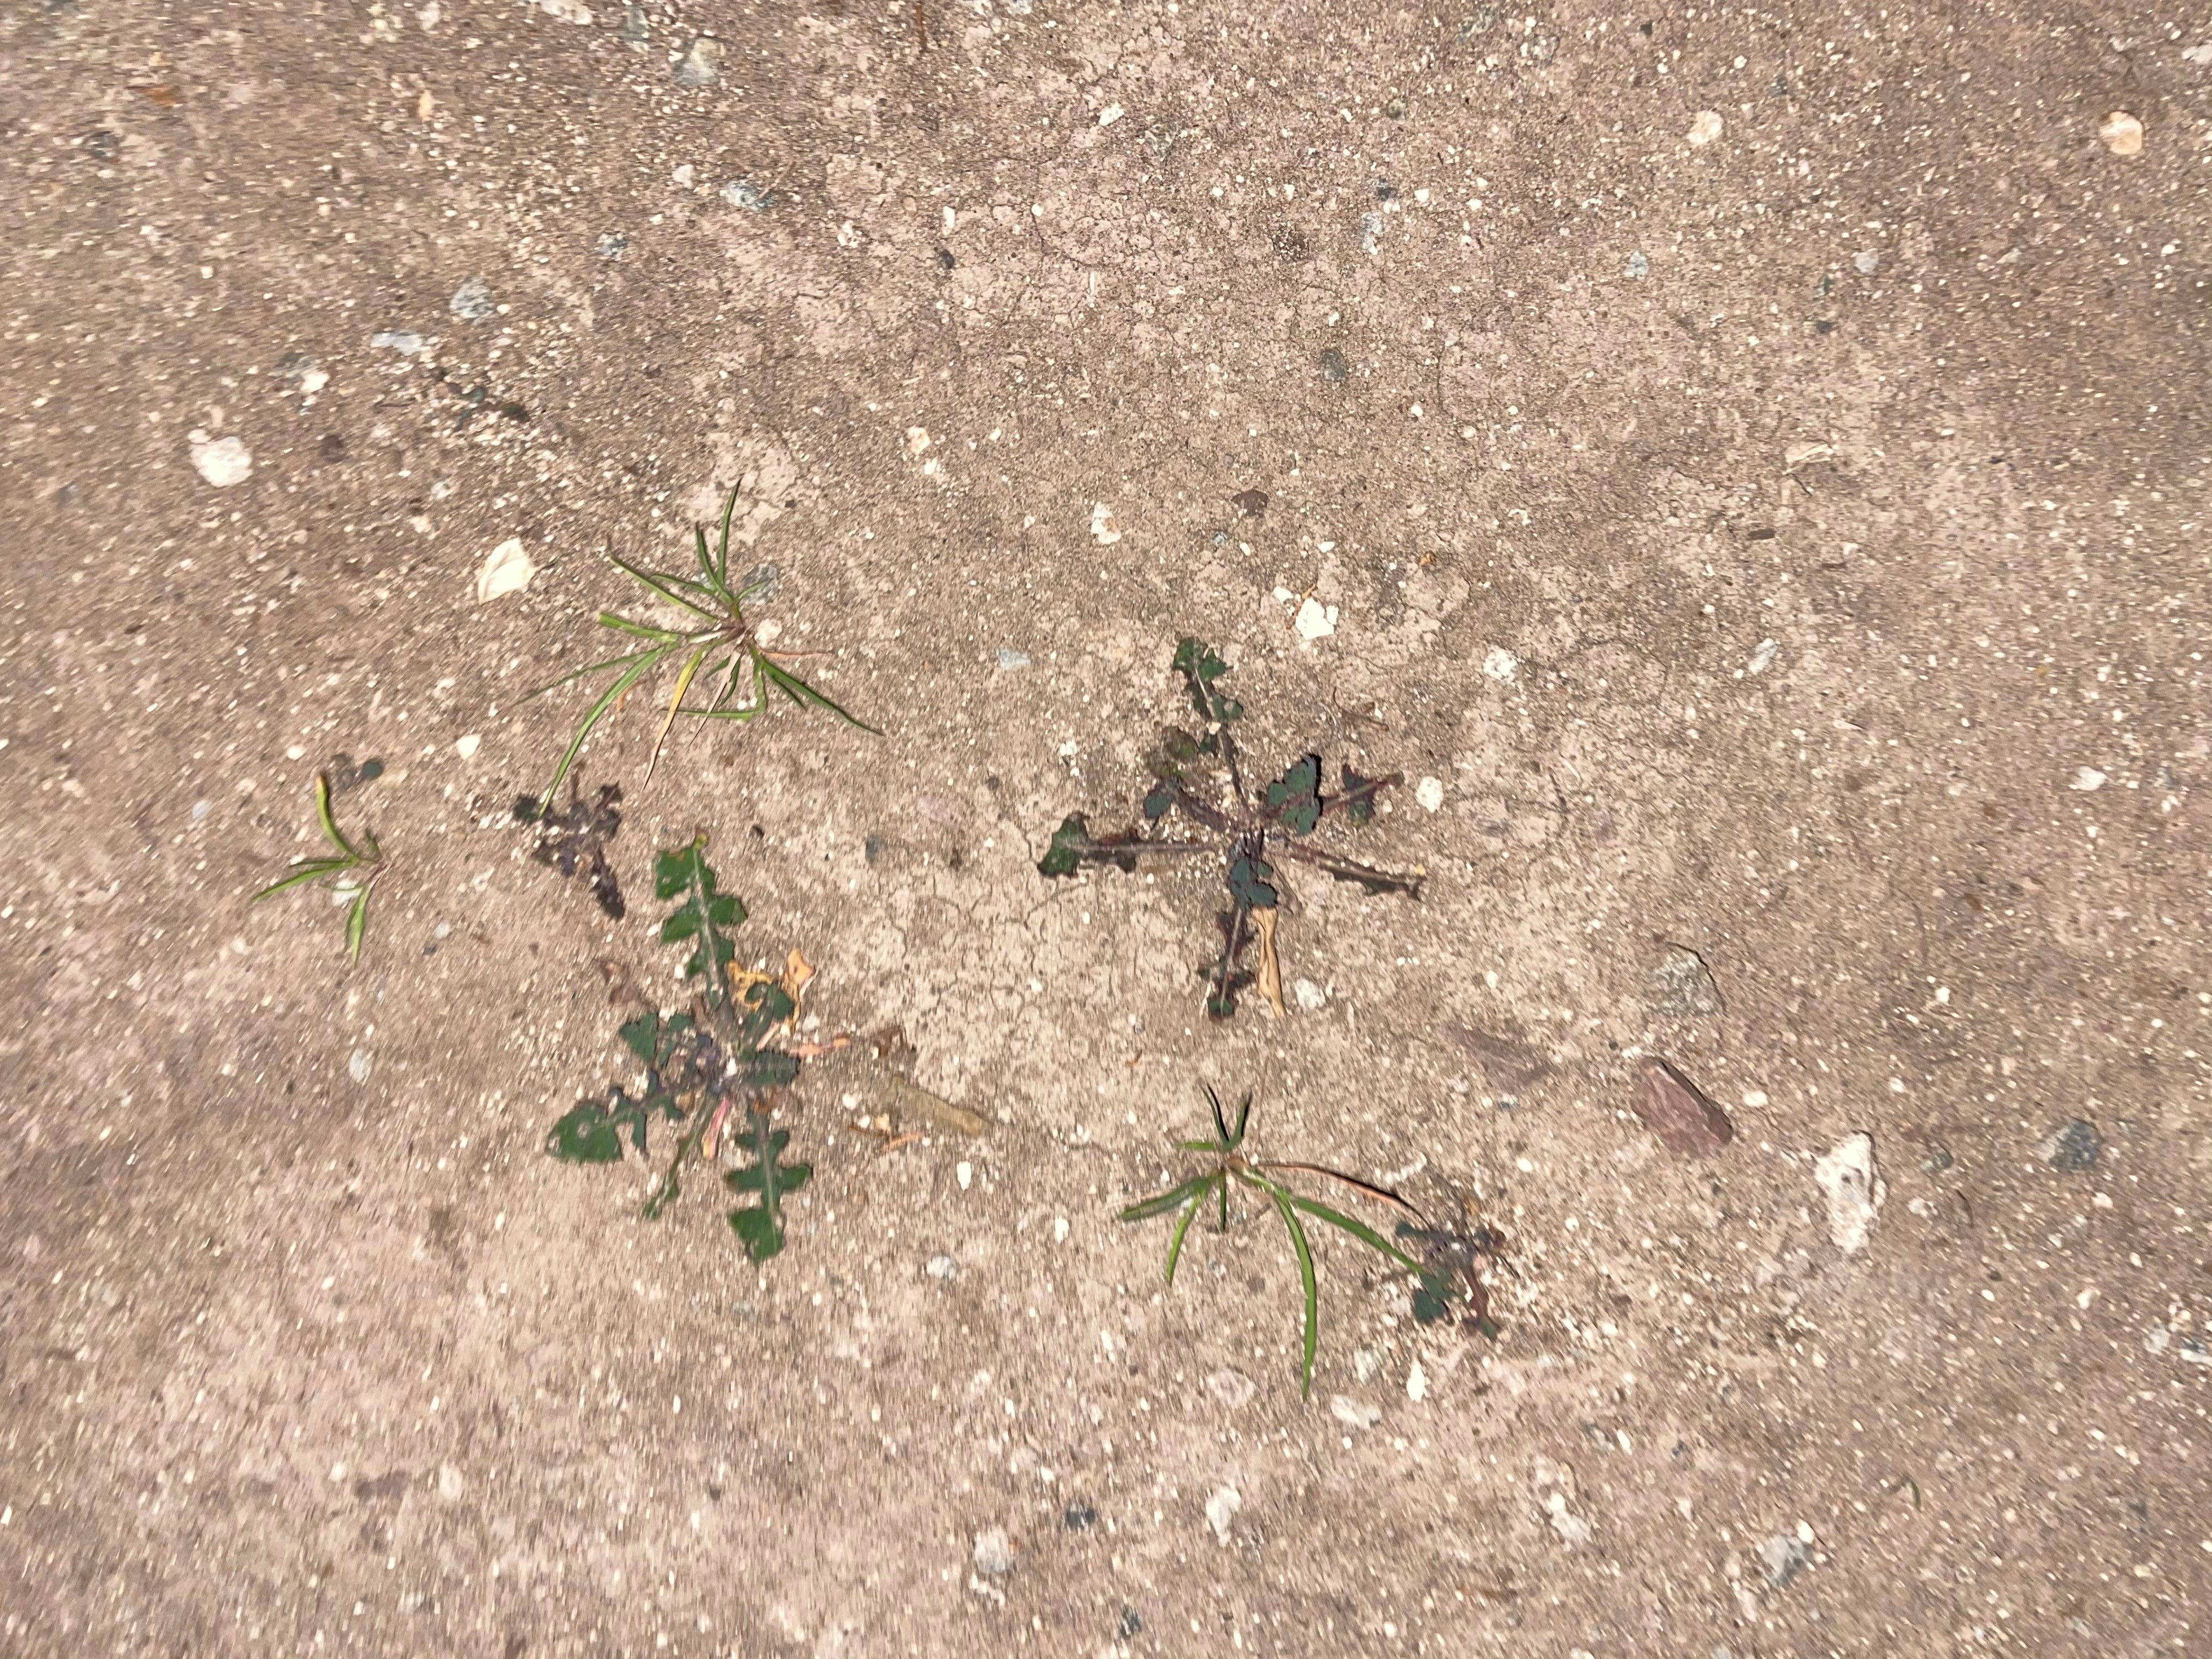Weed: (1529, 779, 1804, 1100), (573, 335, 726, 443)
